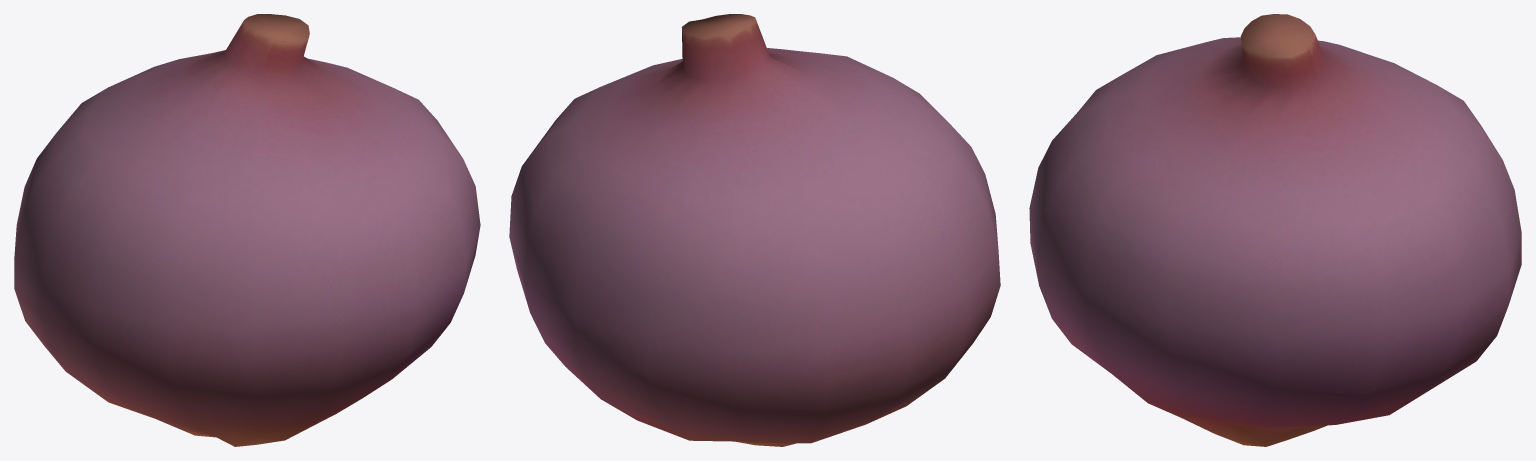
Rendered from onion_M.fbx.
3 views of the same model, side by side, from view 1: azimuth 30°, elevation 25°; view 2: azimuth 150°, elevation 25°; view 3: azimuth 270°, elevation 25° (orthographic). The views are drawn at different scales.
Parts seen in each view (by area): view 1: tripo_node_81247513; view 2: tripo_node_81247513; view 3: tripo_node_81247513.
Part boxes in pixels (x1,y1,x2,y2): tripo_node_81247513: (14, 14, 480, 446); tripo_node_81247513: (509, 14, 1000, 446); tripo_node_81247513: (1029, 14, 1521, 446).
Bounding box in the file's own units: 99.8 × 98.24 × 95.12.
